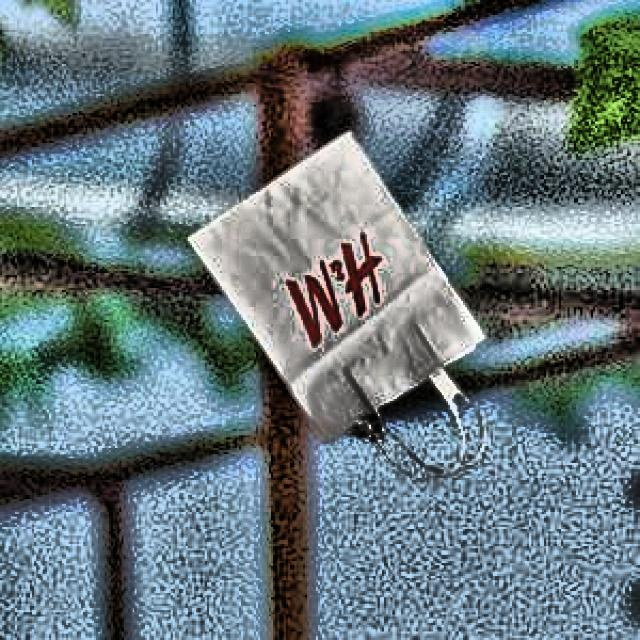Paper-bag: (174, 124, 510, 486)
